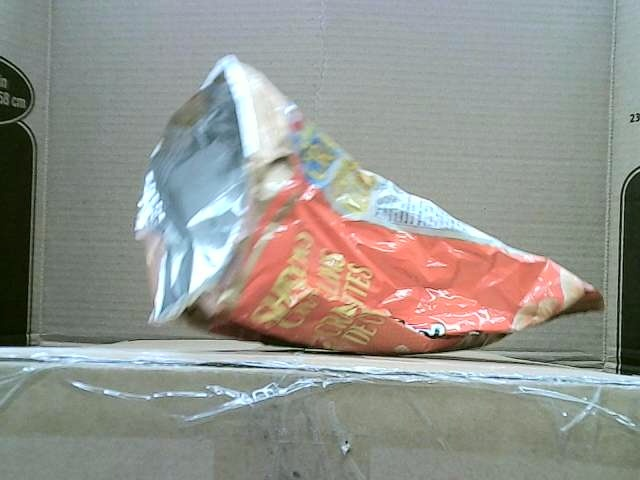Chips: (121, 56, 605, 351)
